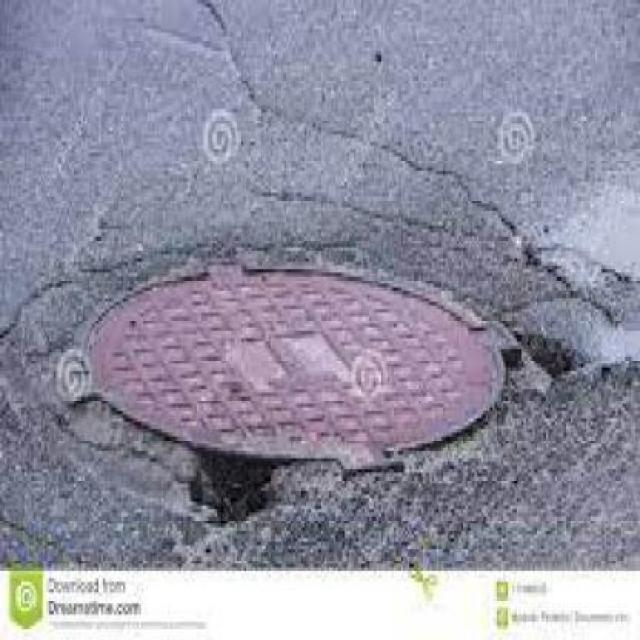Manhole: (76, 258, 518, 472)
Pothole: (184, 452, 284, 530), (516, 324, 592, 379)
